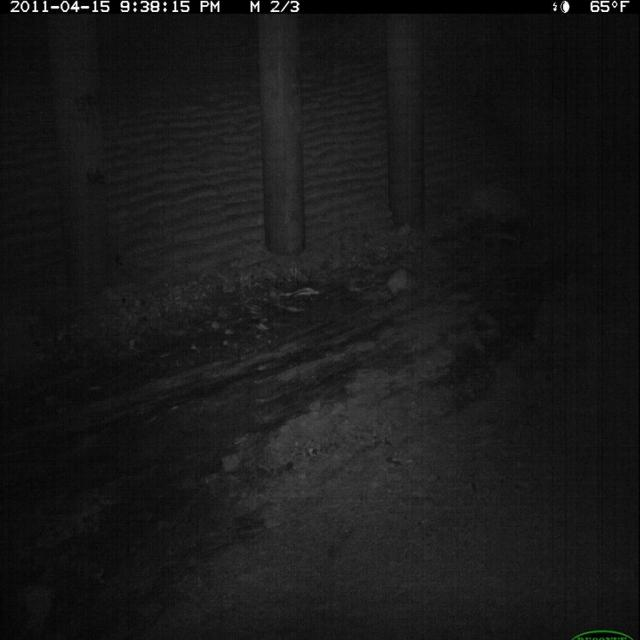opossum: (372, 255, 423, 306)
